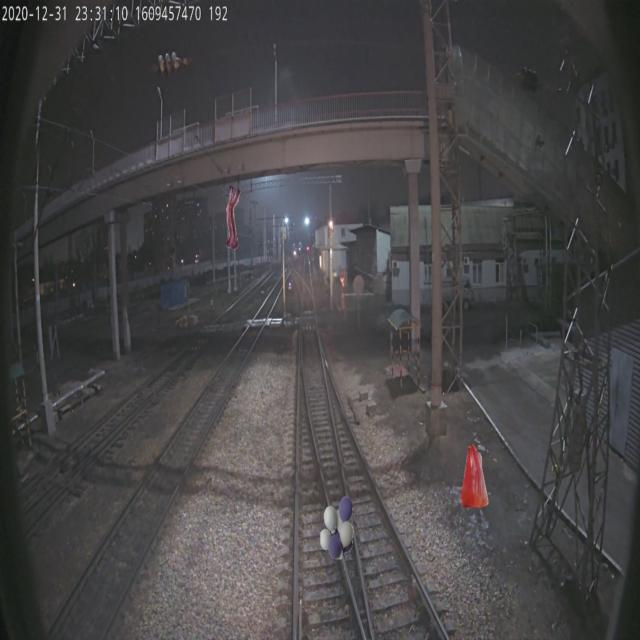balloon: (320, 496, 354, 560)
floating object: (225, 186, 241, 250)
plastic bag: (461, 443, 488, 508)
